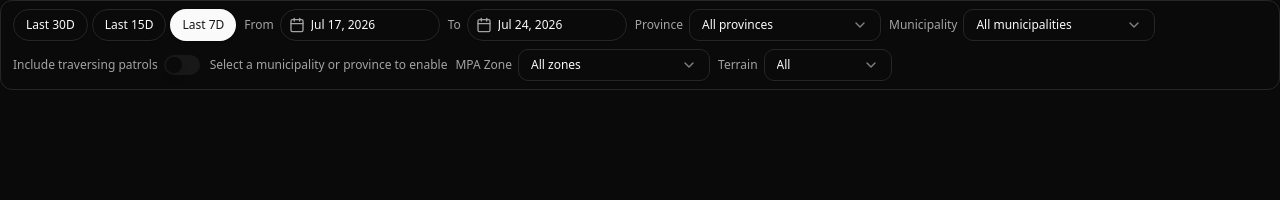
Scenario: ReportFilterBar › filters the MPA Zone options by the selected PROVINCE when 'All municipalities' is active
The width and height of the screenshot is (1280, 200).
Step 1. Click the dropdown with test id "report-province" → (785, 25), box left=689, top=9, right=881, bottom=41
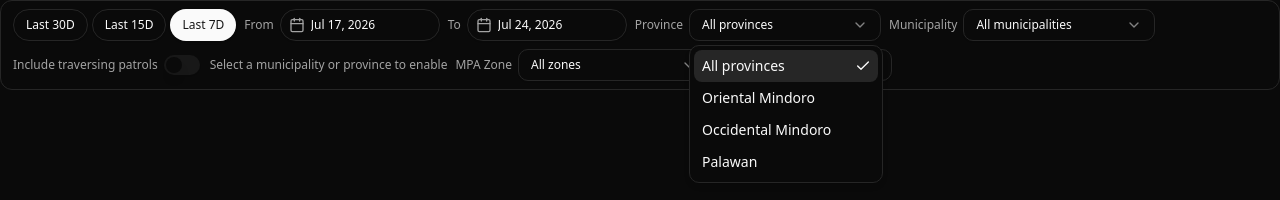
Step 2. Click the option "Oriental Mindoro" → (759, 98), box left=702, top=88, right=815, bottom=107
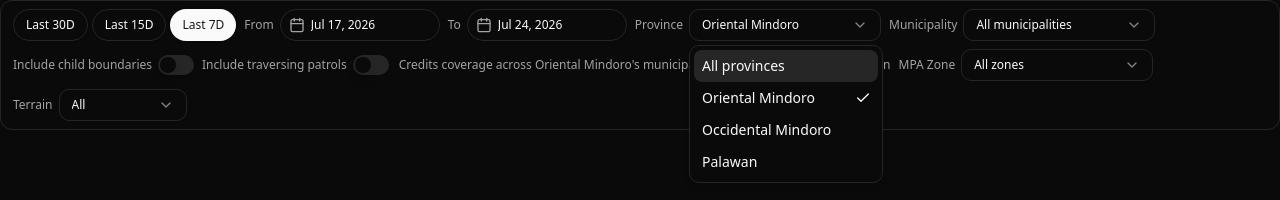
Step 3. Click the dropdown with test id "report-protected-zone" → (1057, 65), box left=961, top=49, right=1153, bottom=81
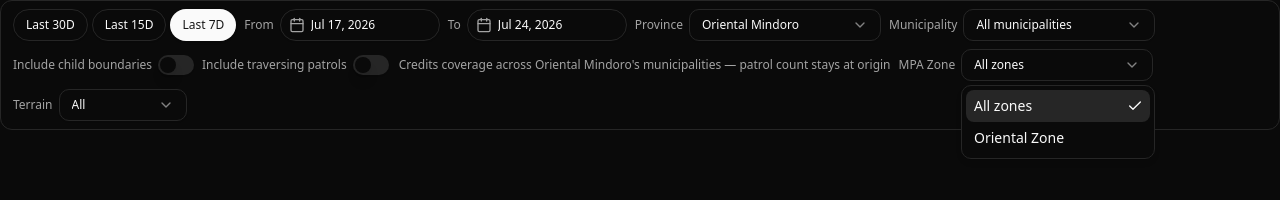
Check: the text "Oriental Zone" is shown, box left=974, top=128, right=1064, bottom=148
